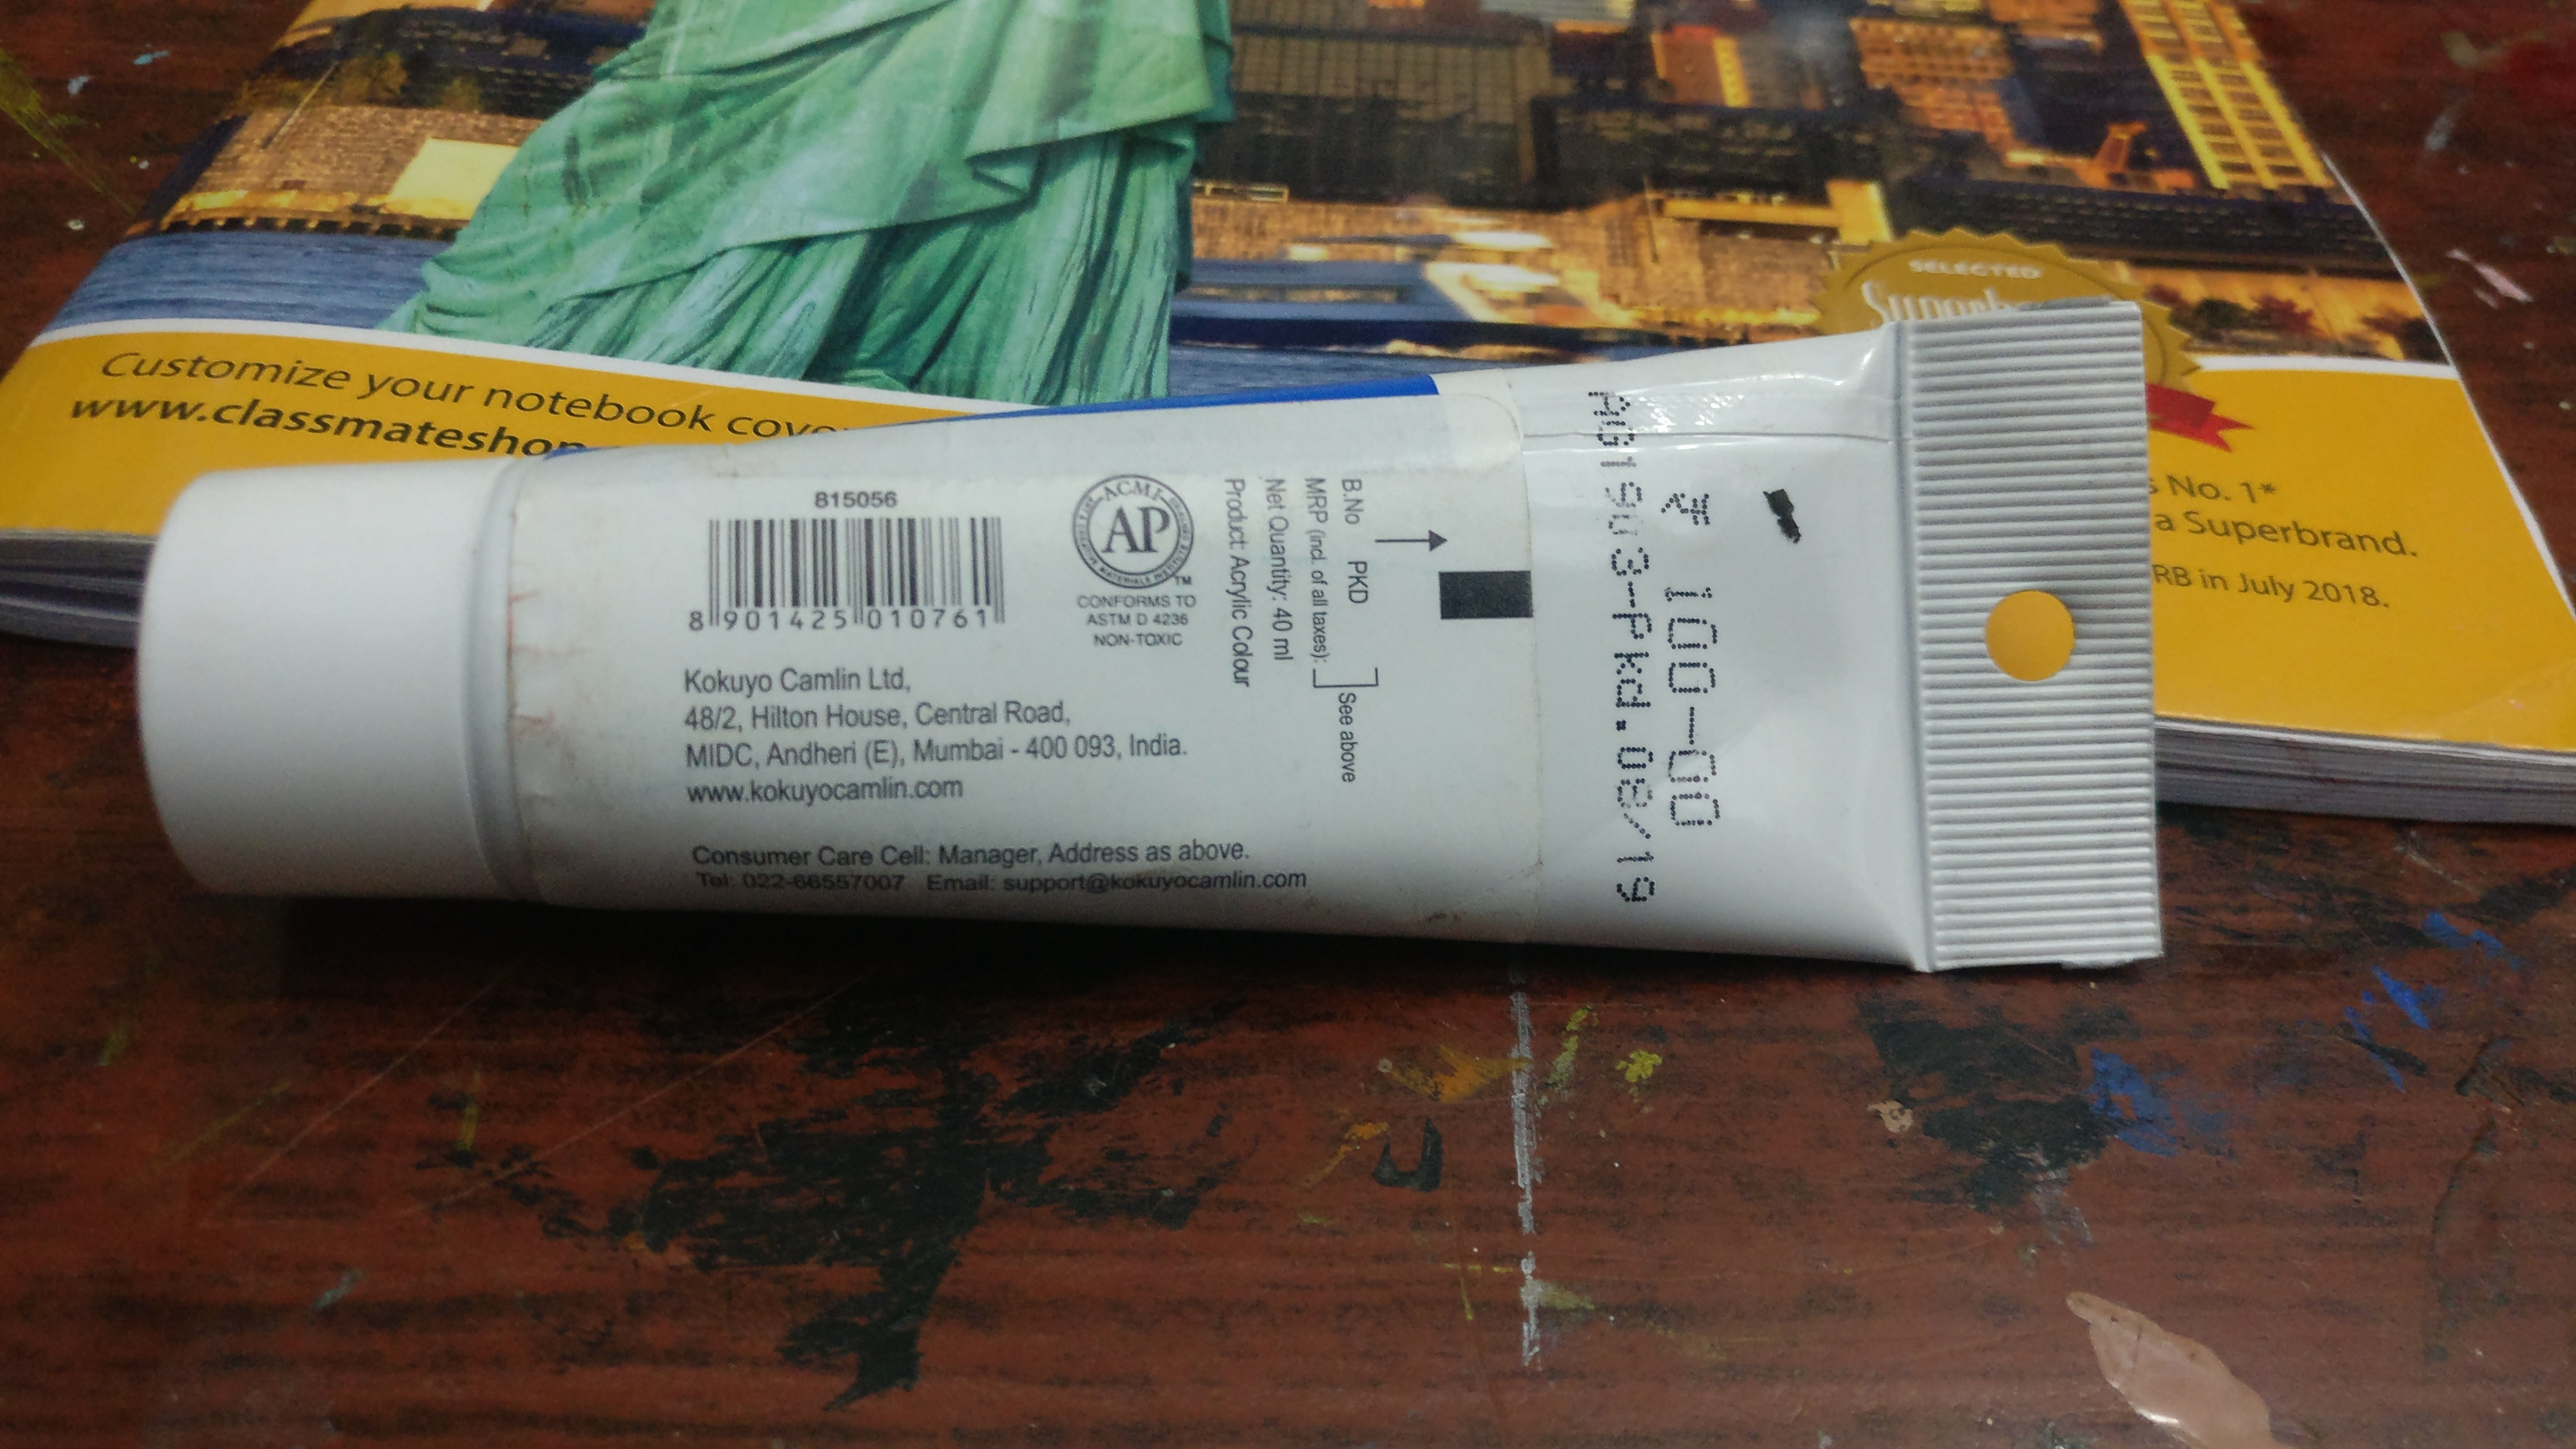barcode: (674, 487, 1023, 642)
